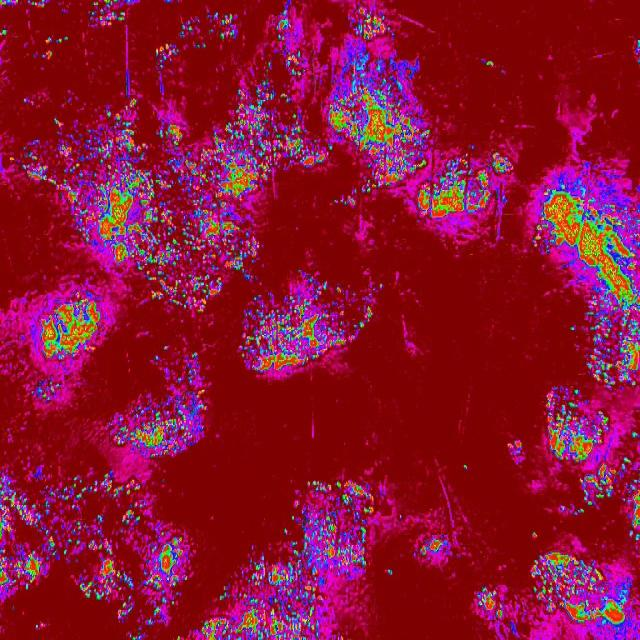fire: (58, 102, 260, 307), (0, 472, 197, 603), (332, 17, 430, 187), (0, 282, 118, 402), (207, 557, 374, 640), (545, 395, 640, 540), (479, 556, 640, 640), (245, 277, 375, 377), (543, 177, 640, 305), (258, 19, 328, 172), (419, 158, 517, 230), (113, 382, 208, 456), (291, 482, 382, 556), (585, 305, 640, 385), (414, 537, 454, 564)
